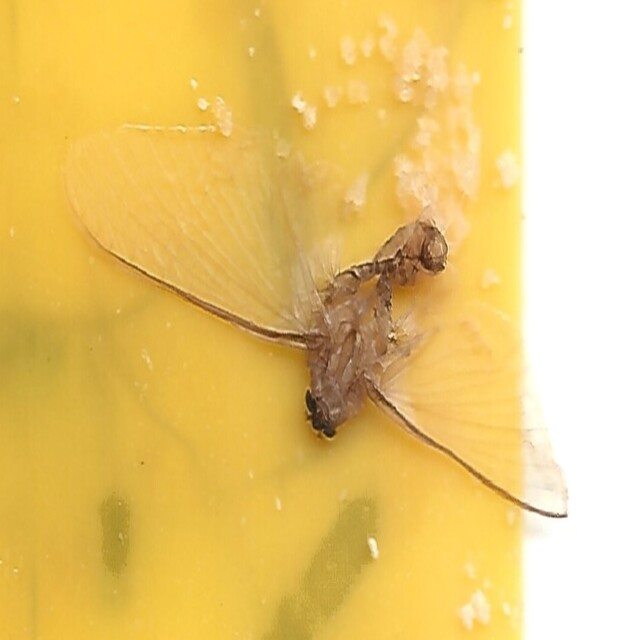Ephemeroptera: (67, 116, 573, 524)
